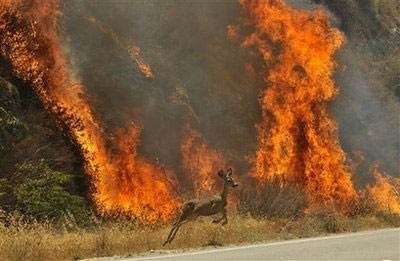fire: (0, 0, 190, 234), (234, 0, 390, 213), (127, 41, 154, 77)
